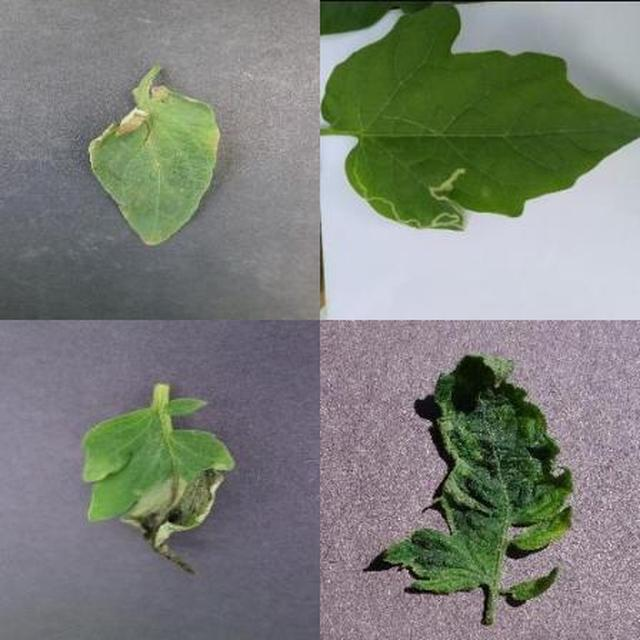Late Blight Leaf: (193, 167, 640, 640)
